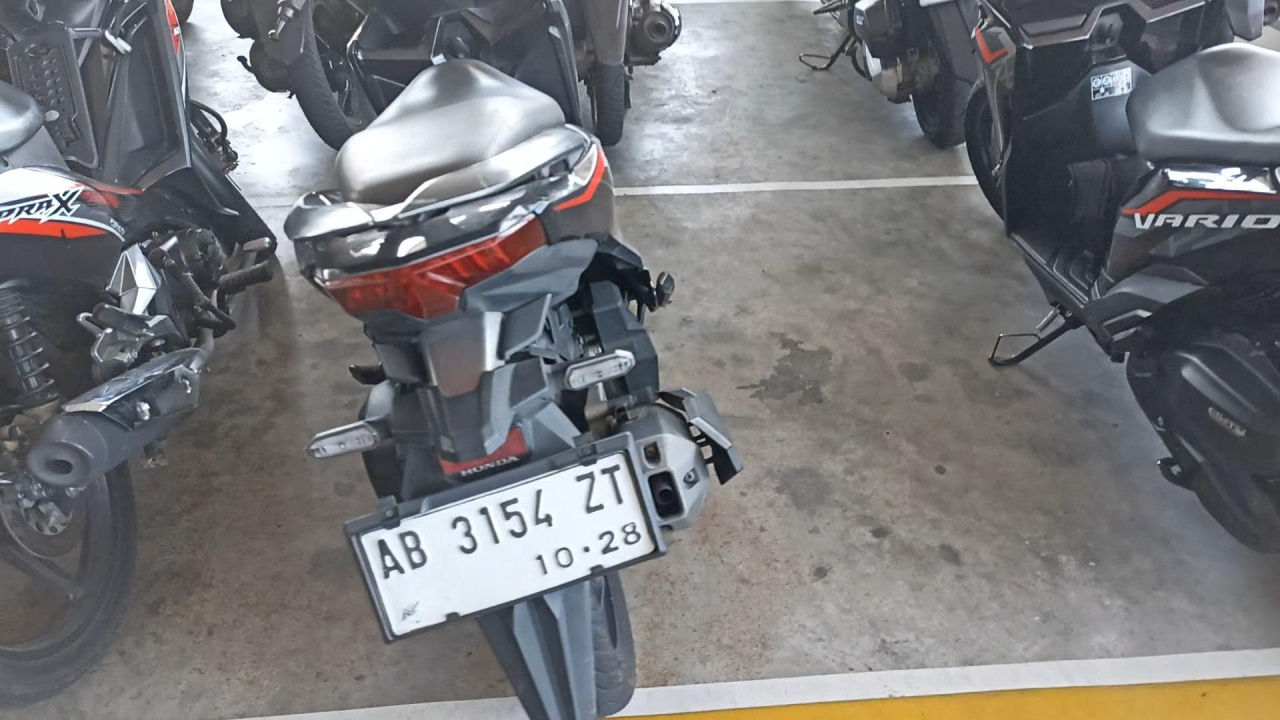plate: (357, 446, 661, 645)
